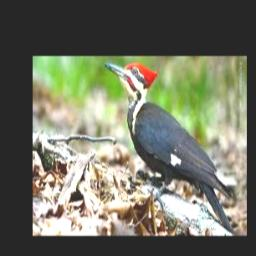Woodpecker: (105, 62, 238, 236)
